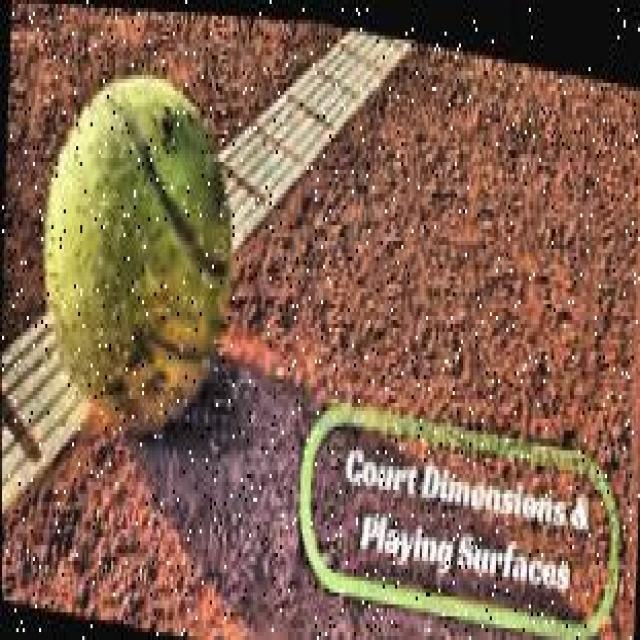tennis-ball: (31, 69, 272, 464)
